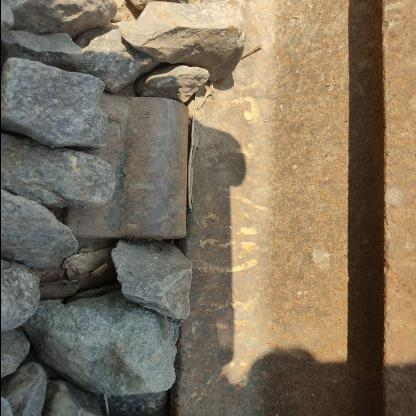Defective: (45, 60, 233, 280)
